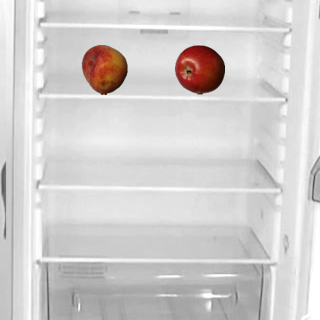Apple Braeburn: (174, 44, 224, 94)
Peach: (79, 44, 129, 94)
